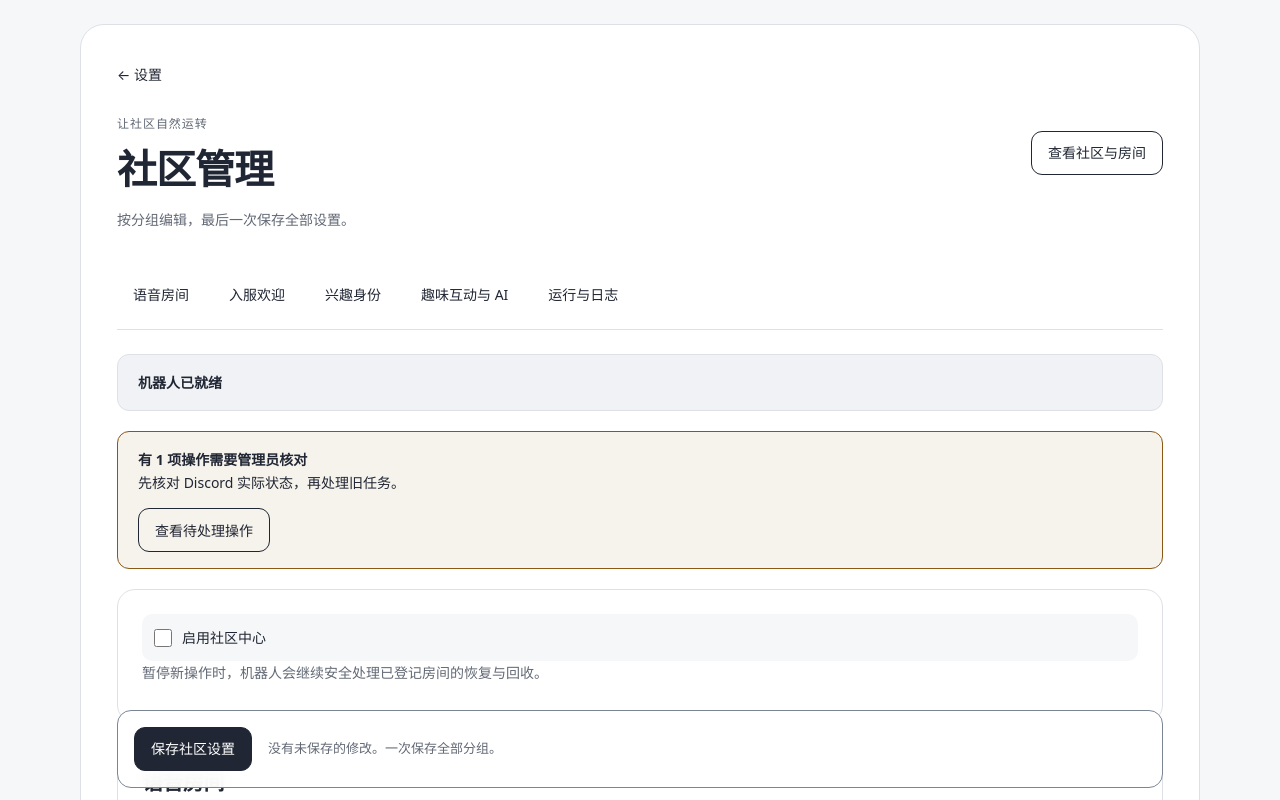
Test: polls queued saves until an actual execution receipt arrives
Step 1. Click the button "保存社区设置" → (193,749), box x1=134 y1=727 x2=252 y2=771
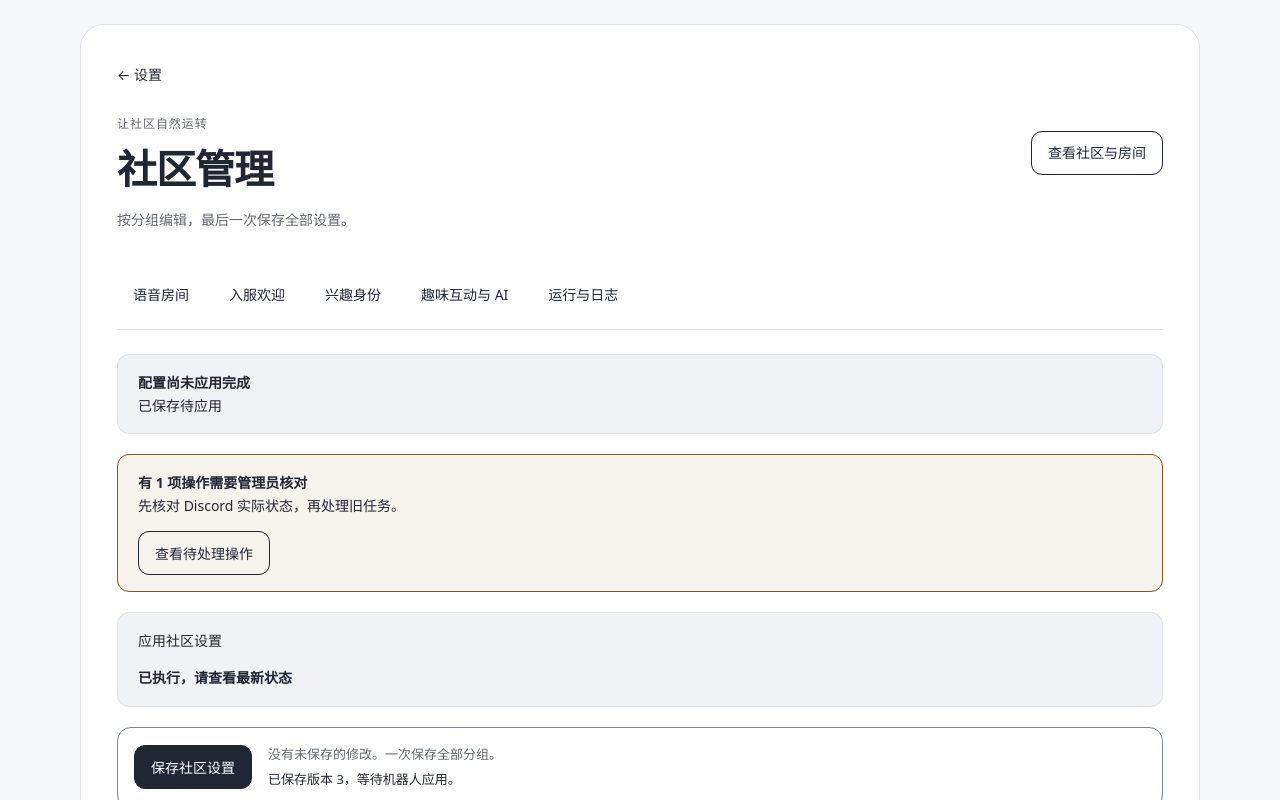
Check: the text "已保存待应用" is shown, box x1=138 y1=396 x2=222 y2=415
Check: the text "已执行，请查看最新状态" is shown, box x1=138 y1=668 x2=292 y2=688
